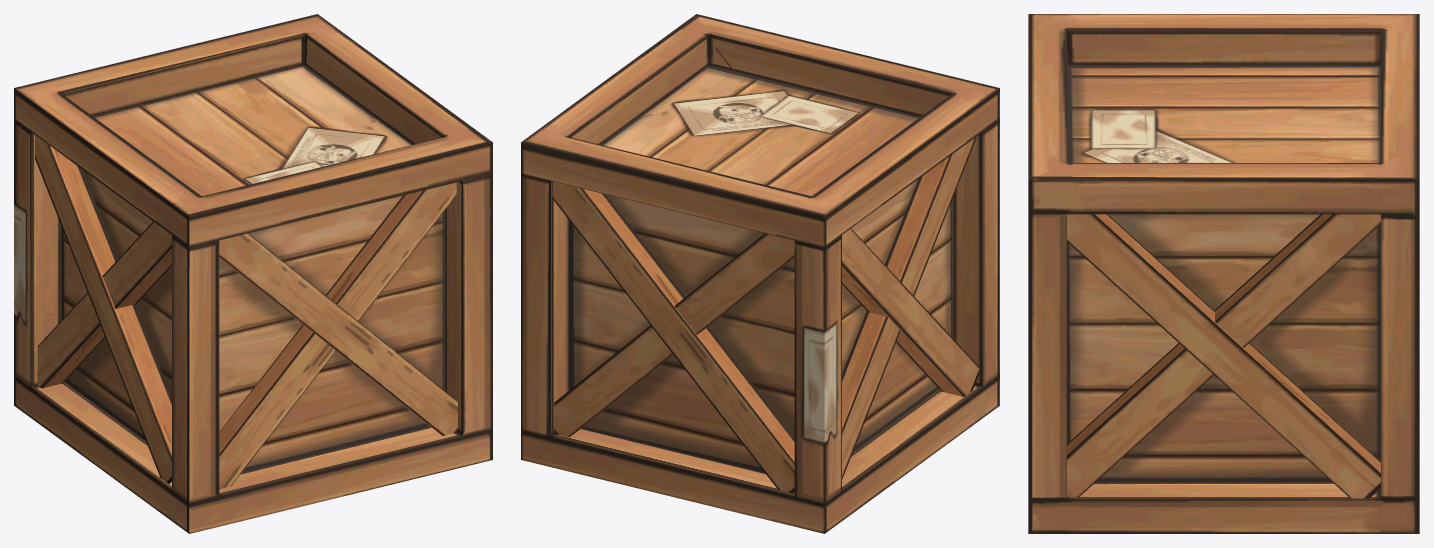
The model's file is wood_box.FBX.
3 views of the same model, side by side, from view 1: azimuth 30°, elevation 25°; view 2: azimuth 150°, elevation 25°; view 3: azimuth 270°, elevation 25° (orthographic). The views are drawn at different scales.
Visible parts, largest first — view 1: Box005; view 2: Box005; view 3: Box005.
Part boxes in pixels (x1=…): Box005: x1=14, y1=14, x2=492, y2=533; Box005: x1=521, y1=14, x2=999, y2=533; Box005: x1=1028, y1=14, x2=1419, y2=533.
Size of the model in its own units: 250 by 250 by 250.
1 material, 1 textured.
